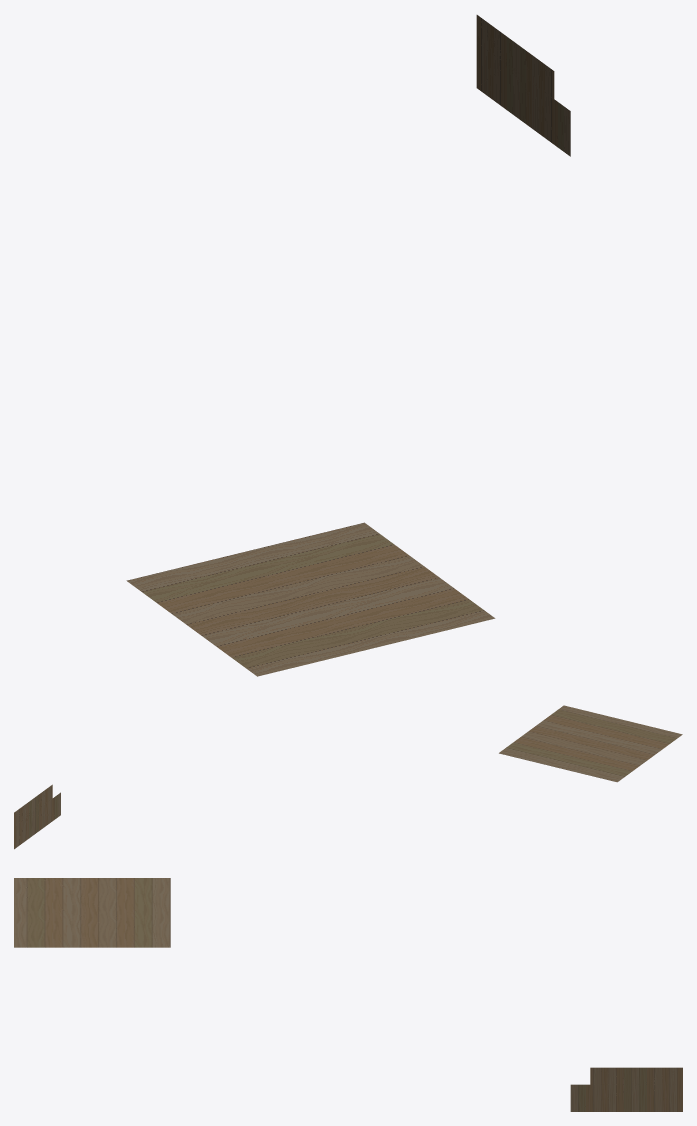
The model's file is kd_stage_135b75_4_8_bounded_portal.glb.
3 renders of one model, top to bottom at view 1: azimuth 30°, elevation 25°; view 2: azimuth 150°, elevation 25°; view 3: azimuth 270°, elevation 25°, orthographic. The views are drawn at different scales.
Visible parts, largest first — view 1: kd_stage_135b75_4_8_bounded_portal; view 2: kd_stage_135b75_4_8_bounded_portal; view 3: kd_stage_135b75_4_8_bounded_portal.
Part boxes in pixels (x1,y1,x2,y2): kd_stage_135b75_4_8_bounded_portal: (126,15,570,676); kd_stage_135b75_4_8_bounded_portal: (14,705,682,849); kd_stage_135b75_4_8_bounded_portal: (14,878,682,1111).
Size of the model in its own units: 3.76 by 0.34 by 4.68.
1 material, 1 textured.
